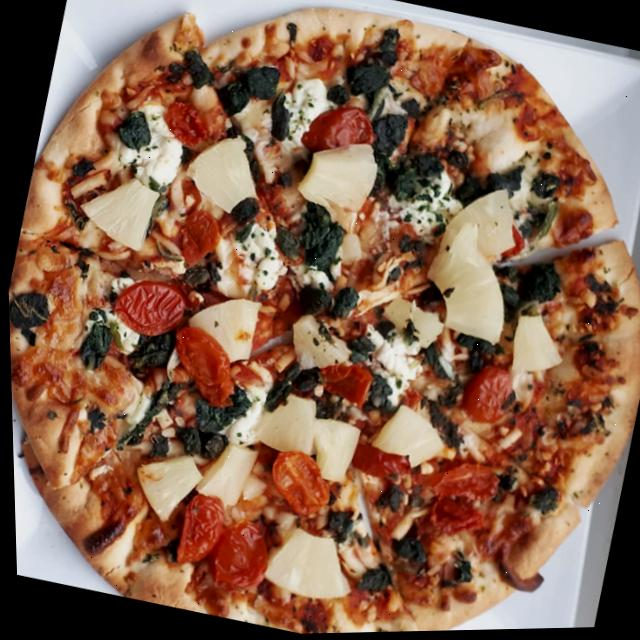pizza: (0, 0, 640, 640)
tomatoes: (158, 321, 245, 412), (256, 444, 337, 523), (101, 271, 188, 344), (295, 97, 381, 167), (199, 516, 273, 596), (164, 487, 227, 576), (455, 362, 517, 433), (424, 456, 501, 512), (311, 358, 373, 412), (156, 98, 216, 153), (175, 208, 223, 270), (344, 441, 410, 484), (422, 495, 486, 539), (499, 223, 528, 261)
